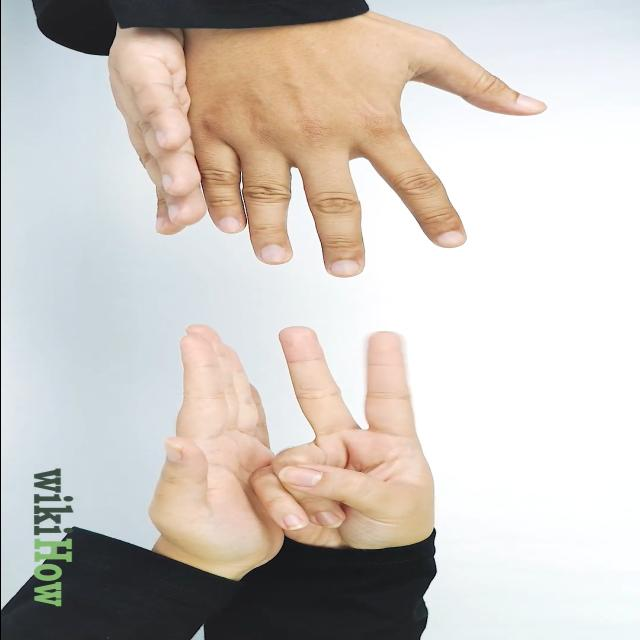Paper: (185, 16, 548, 278)
Scissors: (250, 324, 431, 550)
